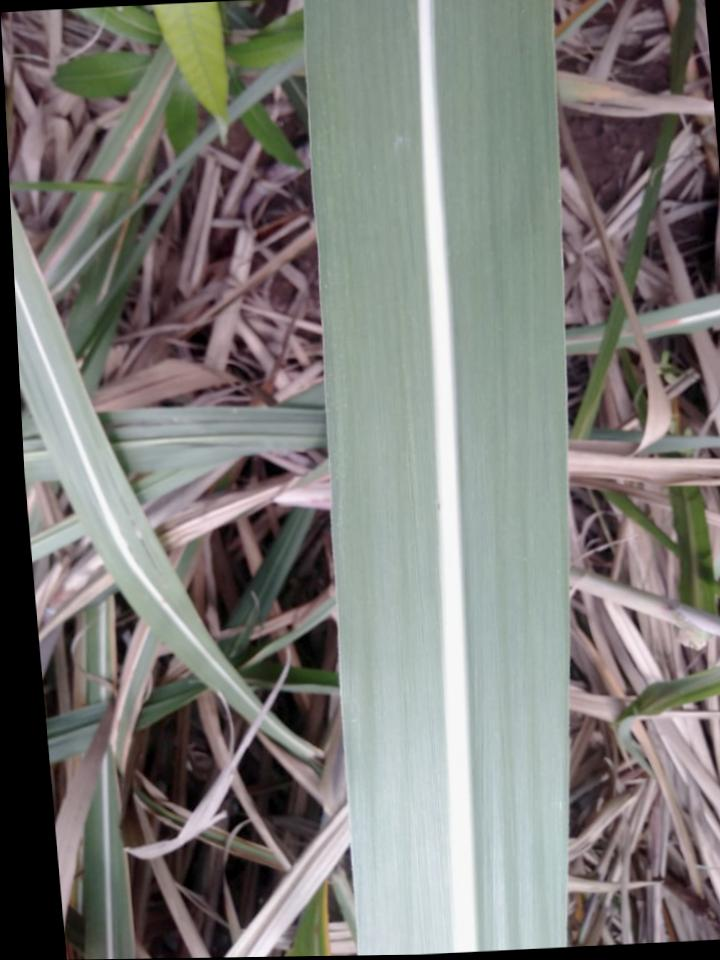Healthy: (304, 0, 569, 955)
